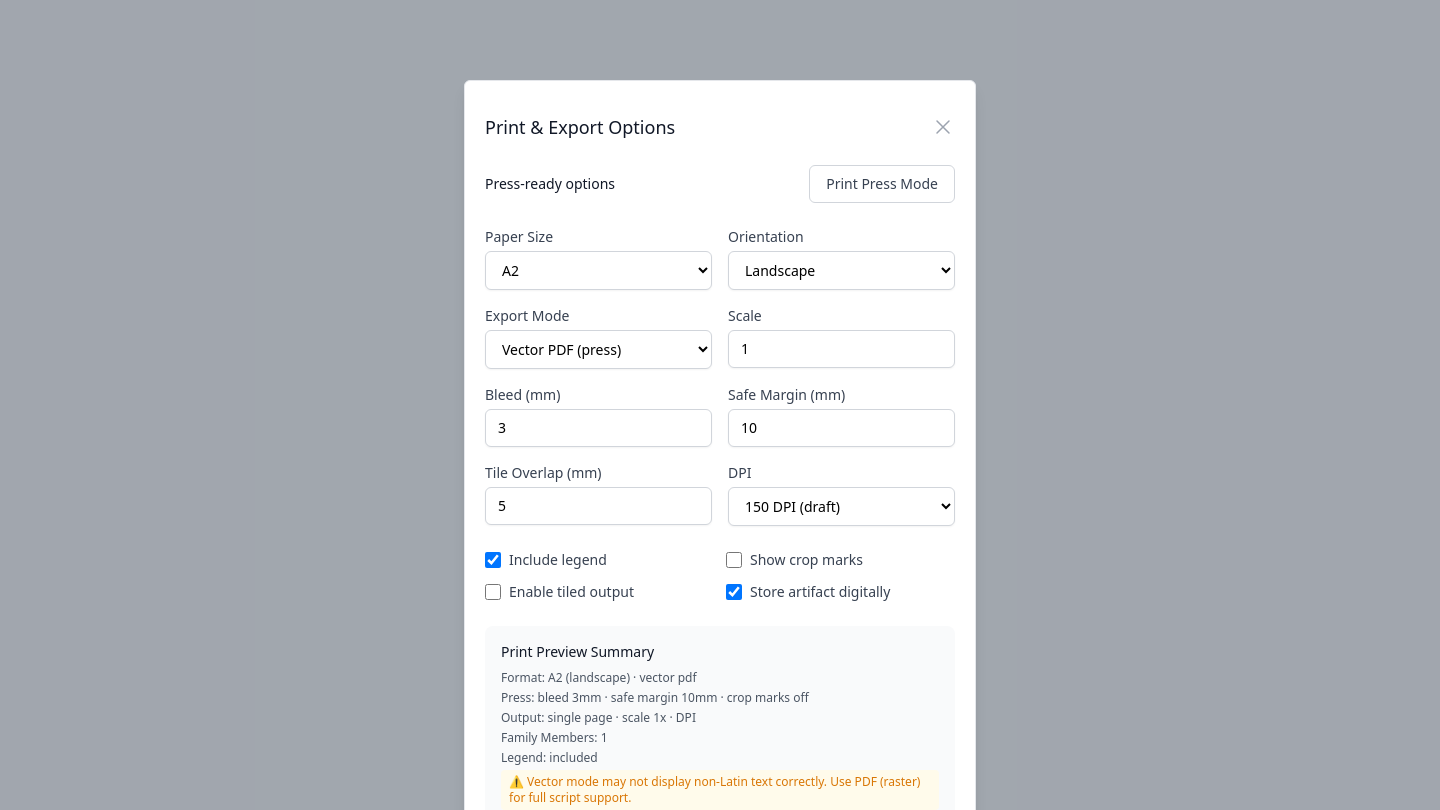
Test: PrintModal › shows validation warning when safe margin is below 5 and disables generate action
Replace the text in the number field labelled "Safe Margin (mm)" with "4". click: {"x": 842, "y": 428}
box: [728,409,955,447]
(page scrolled)
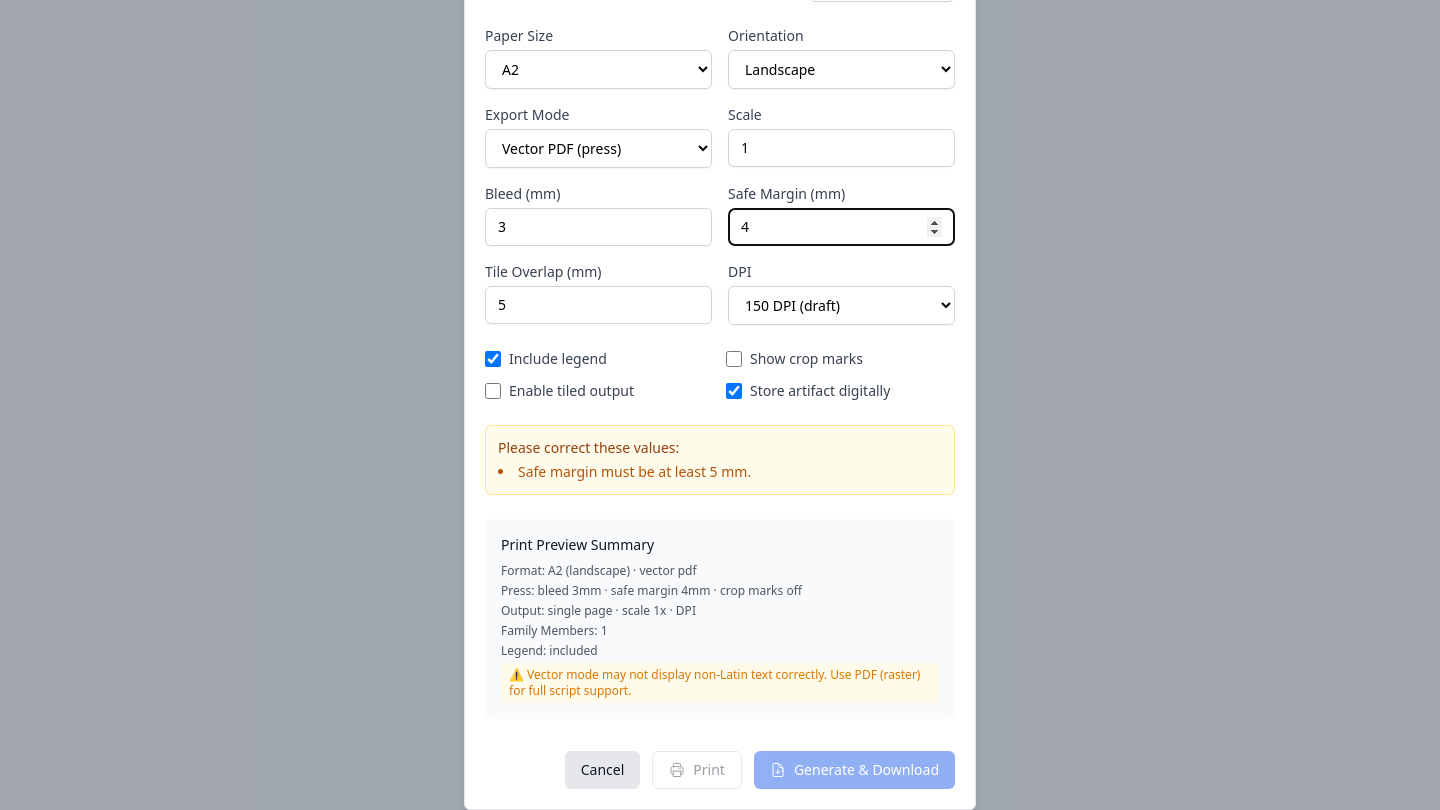
Expected: the list item "Safe margin must be at least 5 mm." is shown, [518,462,751,481]
Expected: the button "Generate & Download" is disabled, [754,751,955,789]
